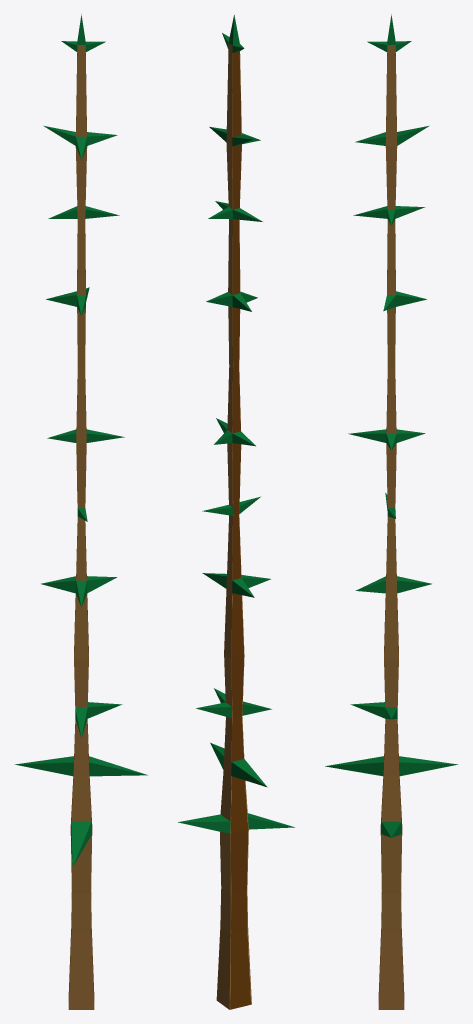
Rendered from Thornstrap.fbx.
3 views of the same model, side by side, from view 1: azimuth 90°, elevation 25°; view 2: azimuth 210°, elevation 25°; view 3: azimuth 270°, elevation 25° (orthographic).
Parts seen in each view (by area): view 1: Thorns; view 2: Thorns; view 3: Thorns.
Part boxes in pixels (box(x1,y1,x2,y2)): Thorns: box(14, 14, 147, 1009); Thorns: box(178, 15, 294, 1009); Thorns: box(325, 14, 458, 1009).
Size of the model in its own units: 39.61 by 328 by 40.36.
1 material, 1 textured.
